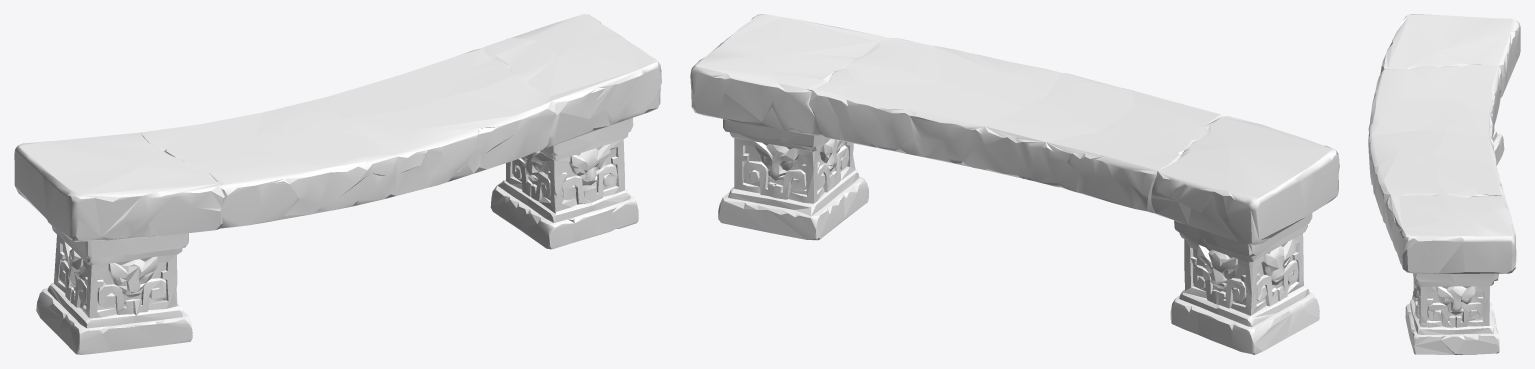
File: bench_curved.glb
3 views of the same model, side by side, from view 1: azimuth 30°, elevation 25°; view 2: azimuth 150°, elevation 25°; view 3: azimuth 270°, elevation 25° (orthographic). The views are drawn at different scales.
Visible parts, largest first — view 1: Mesh_0; view 2: Mesh_0; view 3: Mesh_0.
Part boxes in pixels (left/top/right/bottom): Mesh_0: left=14, top=14, right=661, bottom=354; Mesh_0: left=690, top=14, right=1339, bottom=354; Mesh_0: left=1368, top=14, right=1520, bottom=354.
Bounding box in the file's own units: 2.2 × 0.601 × 0.6411.
1 material, 1 textured.
